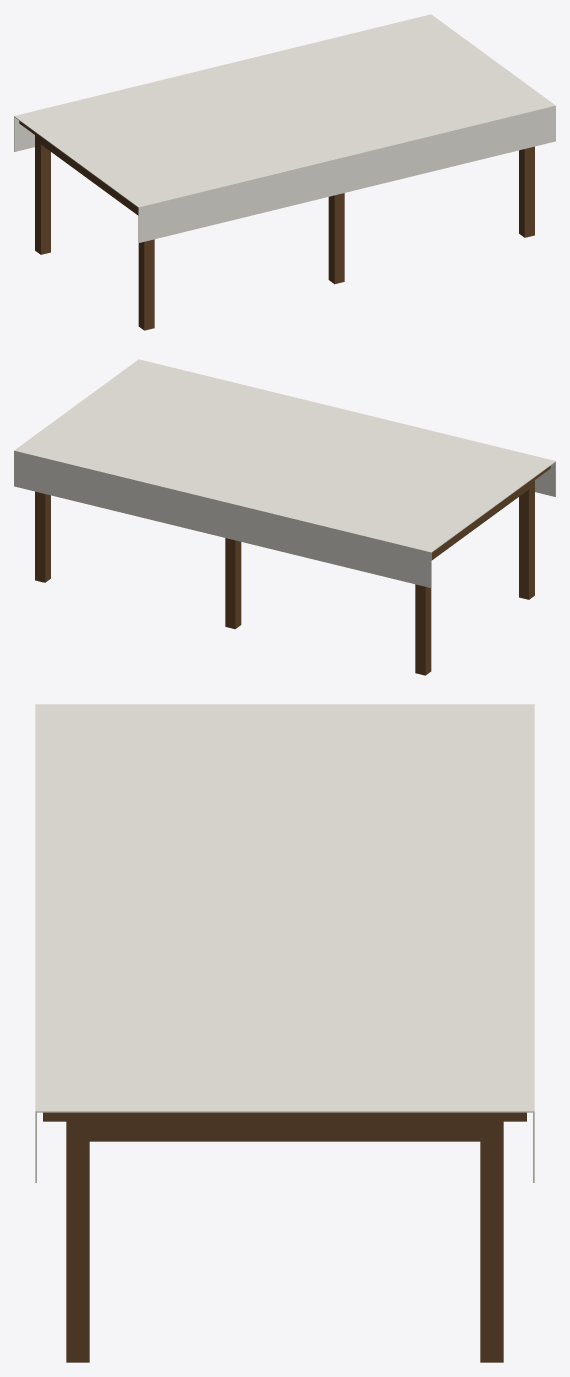
The picture shows the model from 3 angles, top to bottom: view 1: azimuth 30°, elevation 25°; view 2: azimuth 150°, elevation 25°; view 3: azimuth 270°, elevation 25°; orthographic projection. The views are drawn at different scales.
Parts seen in each view (by area): view 1: parametric-variant-table-1st-pub-3772311b27342686bb9b; view 2: parametric-variant-table-1st-pub-3772311b27342686bb9b; view 3: parametric-variant-table-1st-pub-3772311b27342686bb9b.
Boxes of the visible parts, x1,y1,x2,y2 form: parametric-variant-table-1st-pub-3772311b27342686bb9b: (14,14,555,330); parametric-variant-table-1st-pub-3772311b27342686bb9b: (14,359,555,675); parametric-variant-table-1st-pub-3772311b27342686bb9b: (35,704,534,1362).
Bounding box in the file's own units: 2.49 × 0.754 × 1.29.
